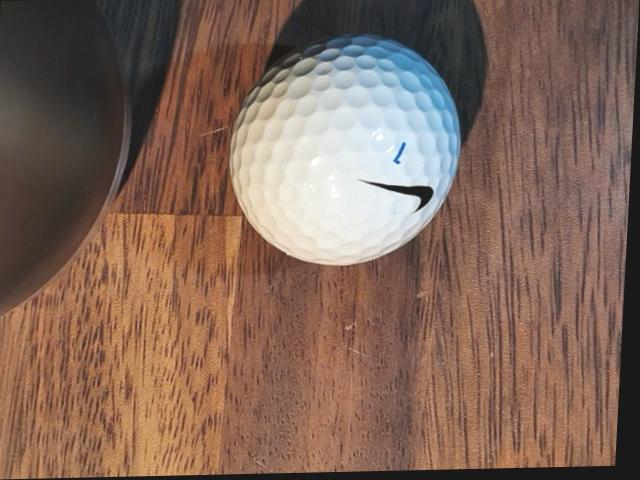Ball: (228, 34, 468, 270)
Nike: (355, 180, 438, 219)
